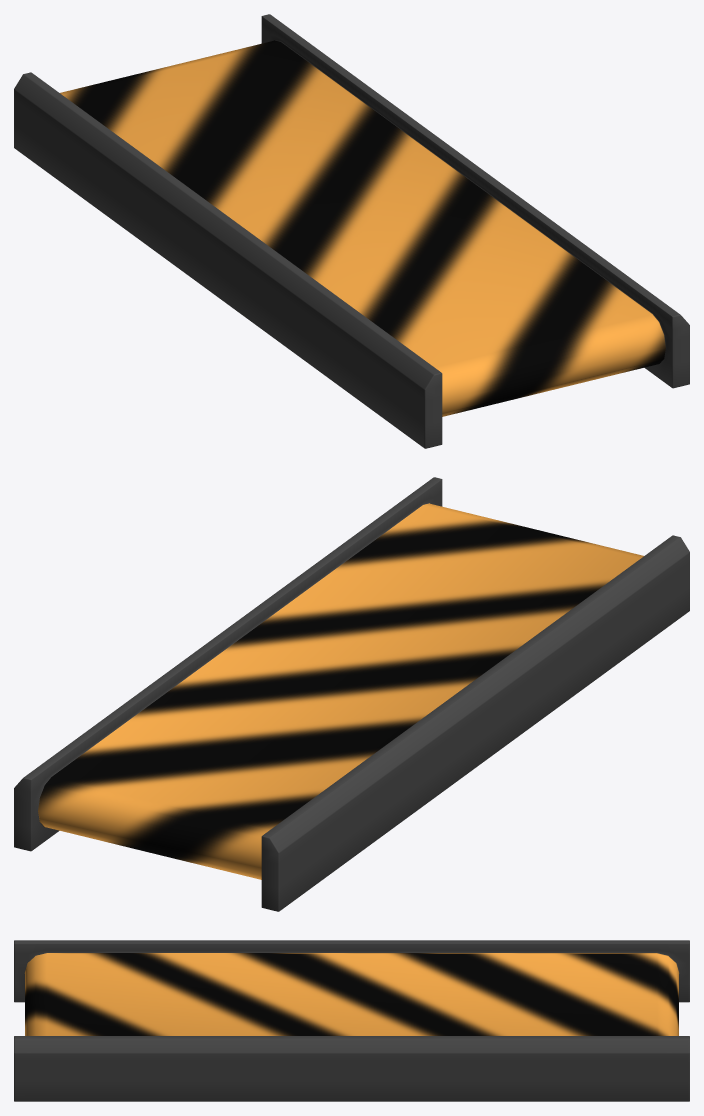
Rendered from conveyor.fbx.
The picture shows the model from 3 angles, top to bottom: view 1: azimuth 30°, elevation 25°; view 2: azimuth 150°, elevation 25°; view 3: azimuth 270°, elevation 25°; orthographic projection. The views are drawn at different scales.
Parts seen in each view (by area): view 1: conveyor_belt; view 2: conveyor_belt; view 3: conveyor_belt.
Boxes of the visible parts, x1,y1,x2,y2 form: conveyor_belt: (14, 14, 689, 448); conveyor_belt: (14, 477, 689, 911); conveyor_belt: (14, 940, 689, 1101).
Bounding box in the file's own units: 231 × 59.86 × 620.
